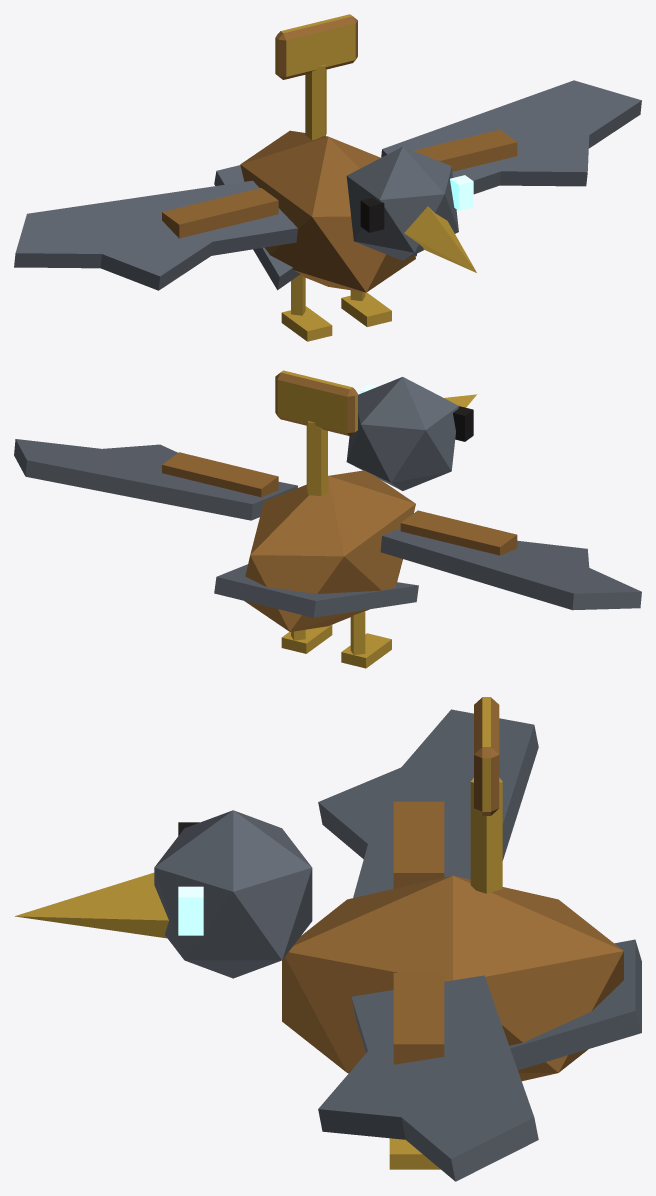
File: clockwork_raven.glb
3 views of the same model, one above another, from view 1: azimuth 30°, elevation 25°; view 2: azimuth 150°, elevation 25°; view 3: azimuth 270°, elevation 25° (orthographic). The views are drawn at different scales.
Visible parts, largest first — view 1: body, wing_r, wing_l, head; view 2: body, wing_r, wing_l, head; view 3: body, wing_l, head, wing_r.
Part boxes in pixels (x1,y1,x2,y2): body: (214, 14, 416, 341); wing_r: (14, 180, 297, 290); wing_l: (381, 80, 641, 194); head: (346, 146, 476, 272); body: (214, 370, 418, 668); wing_r: (380, 510, 641, 610); wing_l: (14, 439, 297, 520); head: (346, 377, 476, 490); body: (282, 697, 641, 1169); wing_l: (318, 973, 538, 1181); head: (15, 810, 312, 978); wing_r: (318, 709, 538, 897).
Size of the model in its own units: 1.26 by 0.545 by 0.7435.
